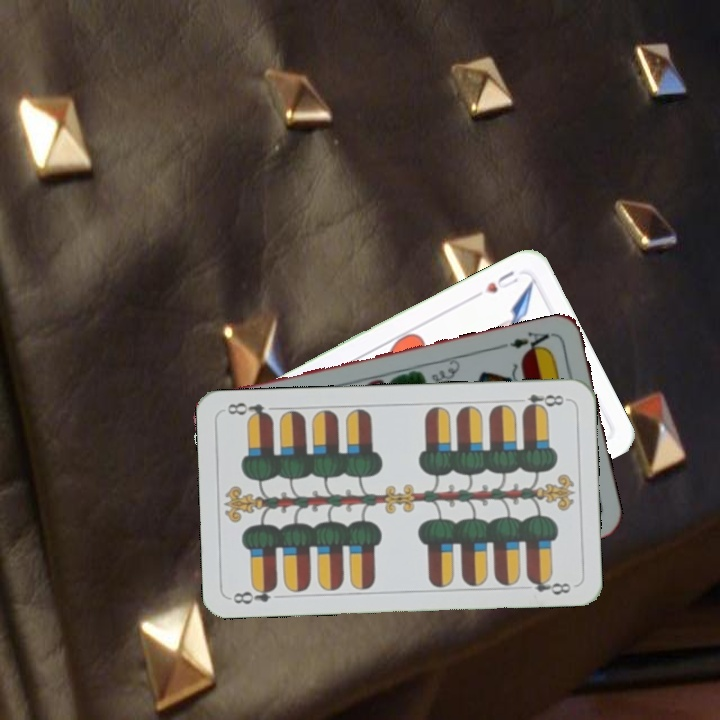E8: (511, 390, 570, 413), (229, 581, 280, 607)
EA: (498, 327, 557, 356)
HU: (481, 266, 521, 296)
